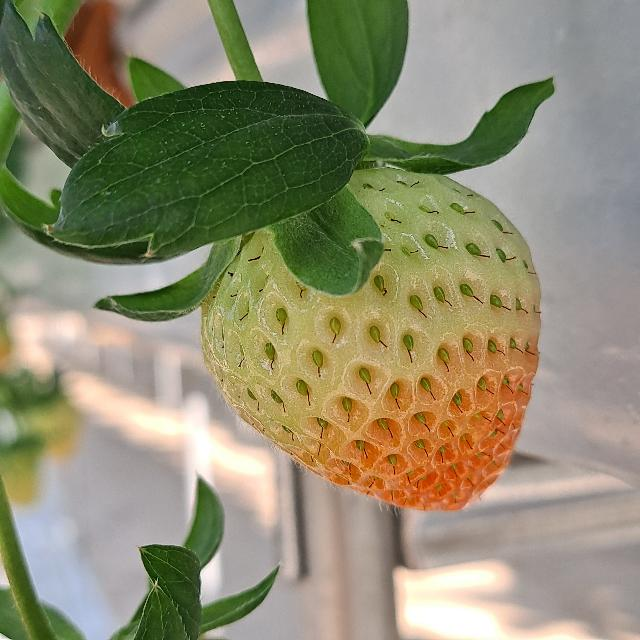Health_50: (200, 166, 540, 509)
